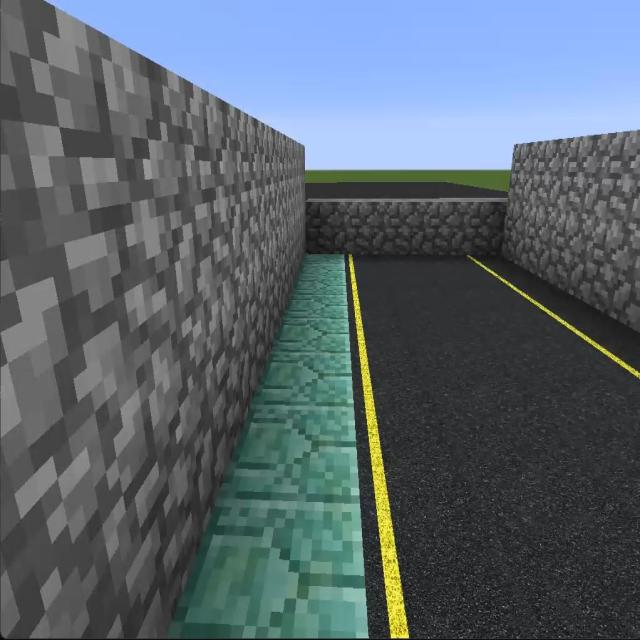road: (349, 258, 636, 637)
sidewalk: (170, 255, 368, 639)
